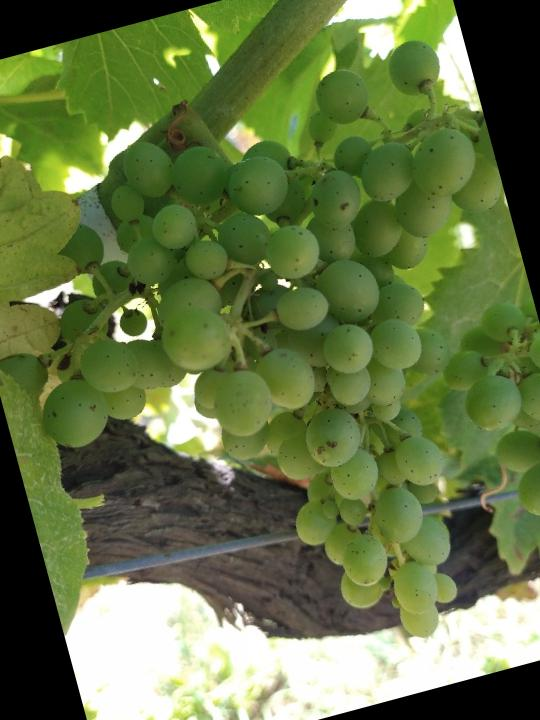grape: (0, 28, 540, 720)
